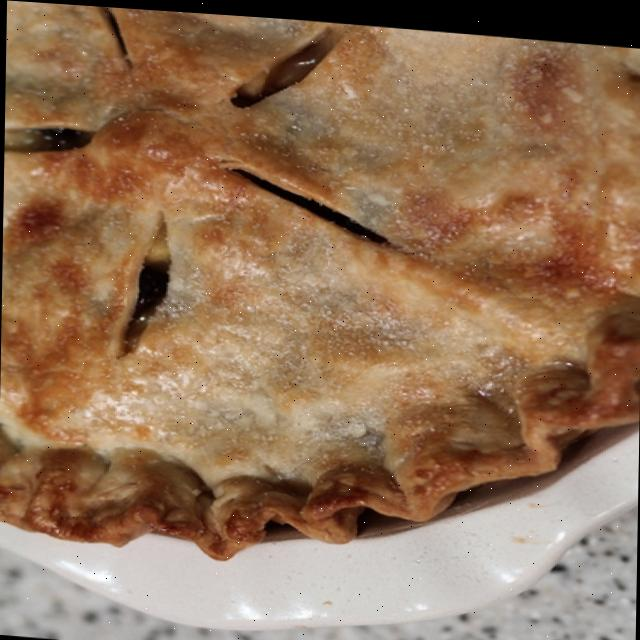炸货点心: (0, 0, 640, 614)
蛋糕甜品: (0, 0, 640, 614)
